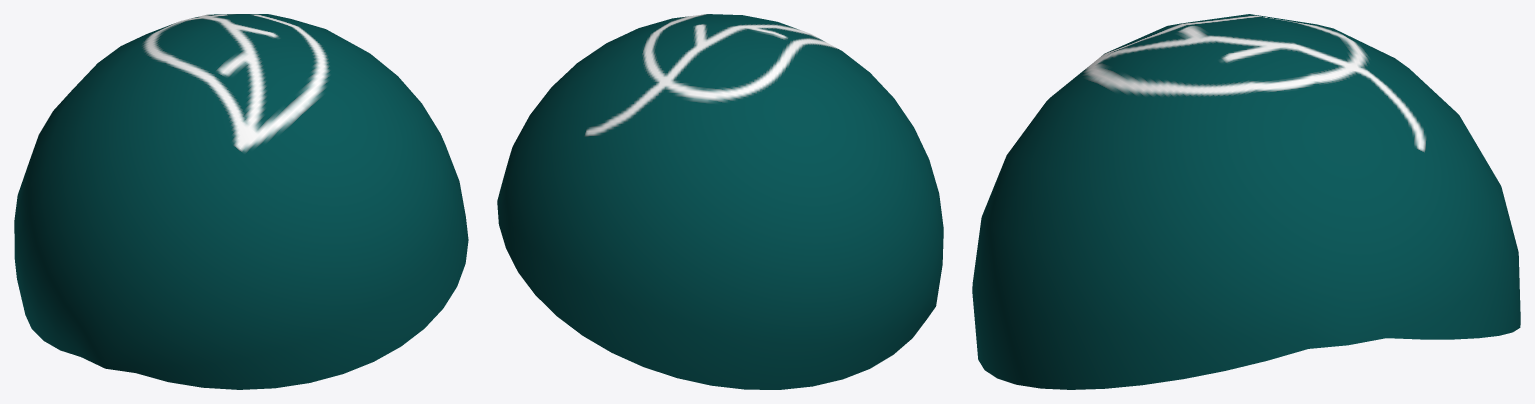
Rendered from Models_Button_Nature.fbx.
The picture shows the model from 3 angles, left to right: view 1: azimuth 30°, elevation 25°; view 2: azimuth 150°, elevation 25°; view 3: azimuth 270°, elevation 25°; orthographic projection. The views are drawn at different scales.
Visible parts, largest first — view 1: pSphere37; view 2: pSphere37; view 3: pSphere37.
Boxes of the visible parts, bbox=[...] form: pSphere37: bbox=[14, 14, 468, 389]; pSphere37: bbox=[497, 14, 943, 389]; pSphere37: bbox=[972, 14, 1520, 389].
Bounding box in the file's own units: 7.35 × 4.88 × 7.38.
1 material, 1 textured.
